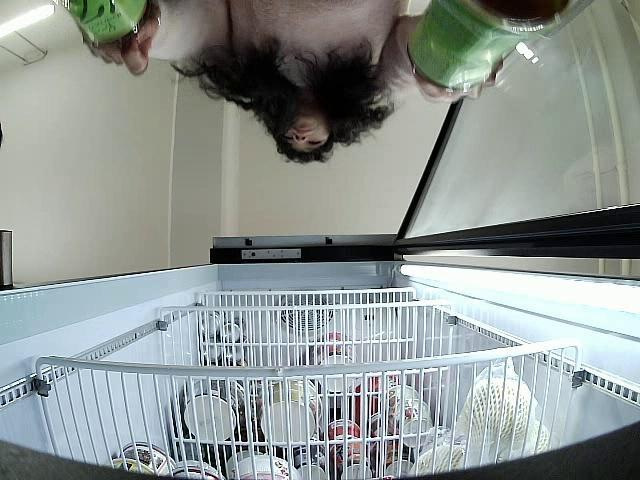19_17cha: (406, 0, 584, 90), (55, 0, 154, 53)
